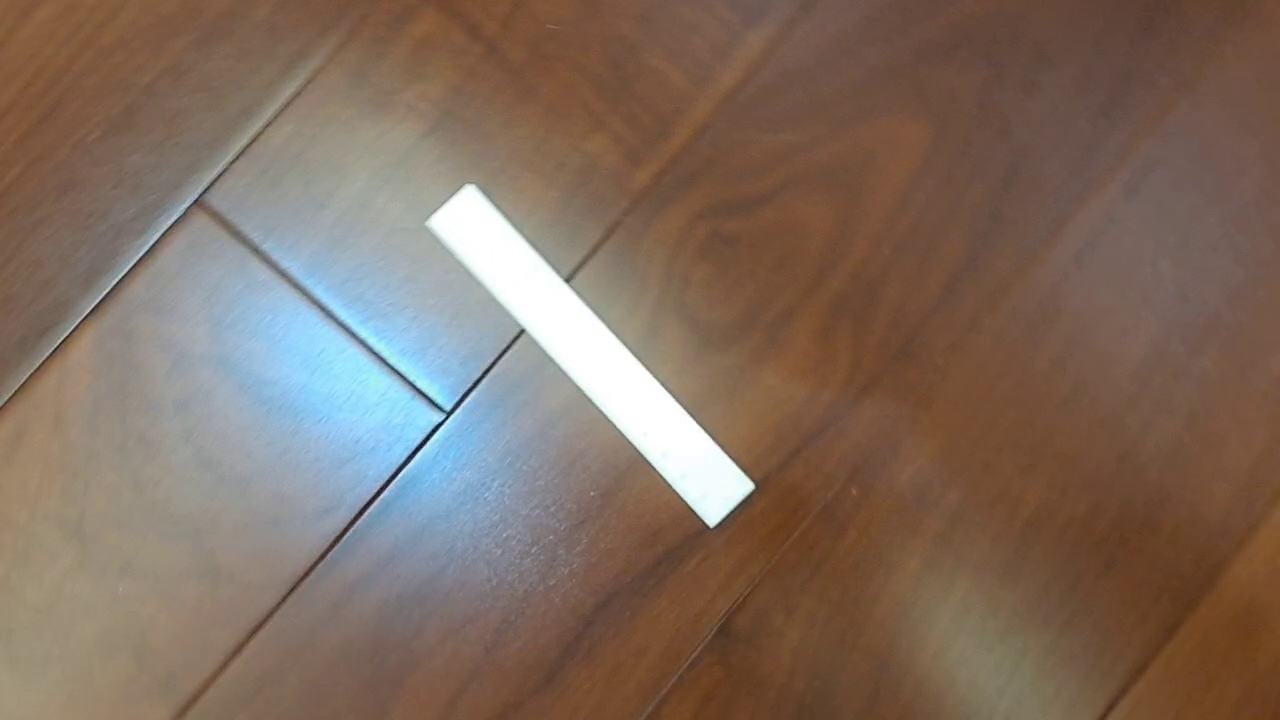ruler: (423, 181, 758, 530)
